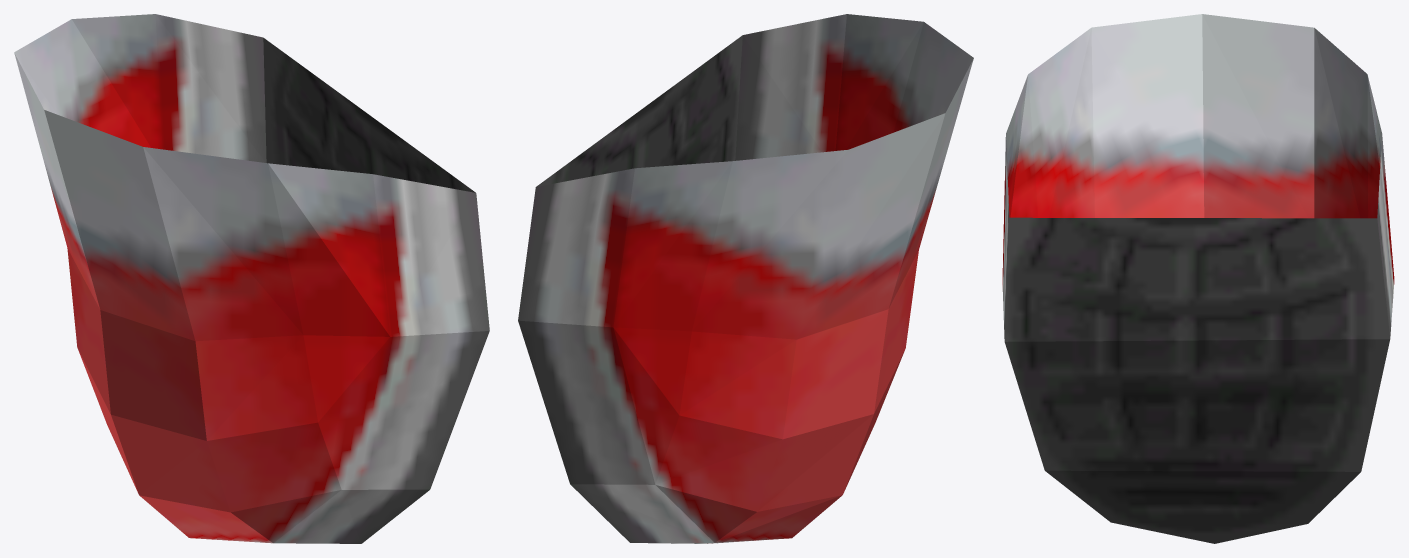
3 renders of one model, left to right at view 1: azimuth 30°, elevation 25°; view 2: azimuth 150°, elevation 25°; view 3: azimuth 270°, elevation 25°, orthographic. The views are drawn at different scales.
Parts seen in each view (by area): view 1: mesh_A61296AE552A3ECB; view 2: mesh_A61296AE552A3ECB; view 3: mesh_A61296AE552A3ECB.
Part boxes in pixels (box(x1,y1,x2,y2)): mesh_A61296AE552A3ECB: box(14, 14, 489, 543); mesh_A61296AE552A3ECB: box(518, 14, 973, 543); mesh_A61296AE552A3ECB: box(1002, 14, 1394, 543).
Size of the model in its own units: 1.25 by 1.8 by 1.49.
